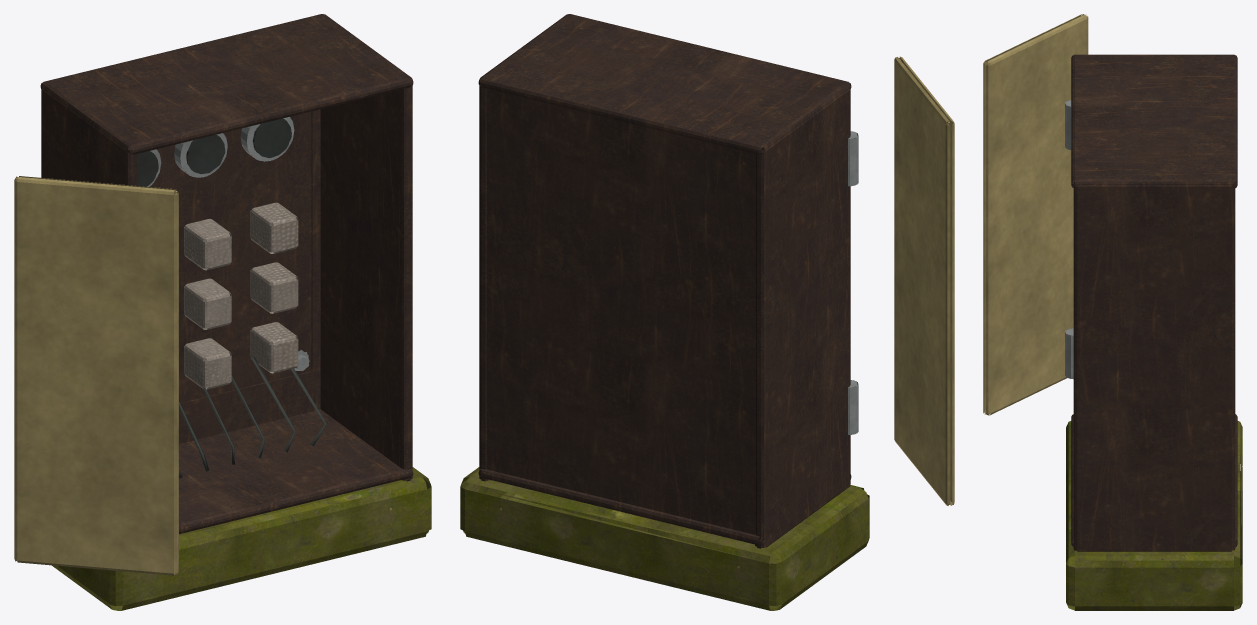
The model's file is lod1_NOT_APPROVED.glb.
3 renders of one model, left to right at view 1: azimuth 30°, elevation 25°; view 2: azimuth 150°, elevation 25°; view 3: azimuth 270°, elevation 25°, orthographic. The views are drawn at different scales.
Visible parts, largest first — view 1: f3_oxidized_iron_surface, f3_faded_safety_ochre_surface, f3_damp_concrete_surface, f3_weathered_concrete_surface, f3_deep_crack_surface, f3_aged_rubber_surface, f3_bare_worn_steel_surface; view 2: f3_oxidized_iron_surface, f3_damp_concrete_surface, f3_faded_safety_ochre_surface, f3_bare_worn_steel_surface; view 3: f3_oxidized_iron_surface, f3_faded_safety_ochre_surface, f3_damp_concrete_surface, f3_bare_worn_steel_surface.
Part boxes in pixels (x1,y1,x2,y2): f3_oxidized_iron_surface: [40, 14, 413, 534]; f3_faded_safety_ochre_surface: [14, 176, 178, 575]; f3_damp_concrete_surface: [52, 467, 431, 610]; f3_weathered_concrete_surface: [184, 202, 298, 389]; f3_deep_crack_surface: [137, 118, 291, 186]; f3_aged_rubber_surface: [179, 357, 326, 478]; f3_bare_worn_steel_surface: [147, 117, 309, 370]; f3_oxidized_iron_surface: [478, 14, 851, 548]; f3_damp_concrete_surface: [460, 467, 869, 610]; f3_faded_safety_ochre_surface: [894, 56, 954, 505]; f3_bare_worn_steel_surface: [848, 131, 858, 434]; f3_oxidized_iron_surface: [1071, 54, 1237, 551]; f3_faded_safety_ochre_surface: [983, 14, 1088, 415]; f3_damp_concrete_surface: [1066, 421, 1242, 610]; f3_bare_worn_steel_surface: [1065, 100, 1073, 379].
Bounding box in the file's own units: 1.73 × 1.86 × 1.03.
7 materials, 7 textured.
